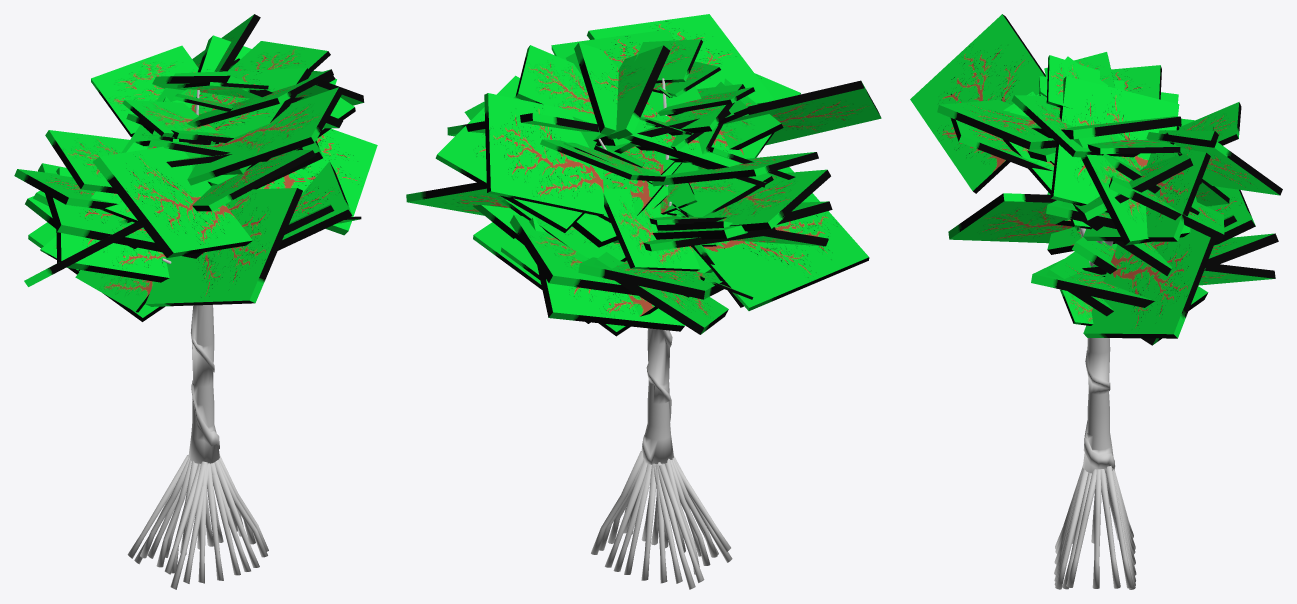
The model's file is MangalGrande.dae.
3 renders of one model, left to right at view 1: azimuth 30°, elevation 25°; view 2: azimuth 150°, elevation 25°; view 3: azimuth 270°, elevation 25°, orthographic.
Visible parts, largest first — view 1: Cilindro.010; view 2: Cilindro.010; view 3: Cilindro.010.
Part boxes in pixels (x1=…): Cilindro.010: x1=14, y1=14, x2=377, y2=589; Cilindro.010: x1=406, y1=14, x2=881, y2=589; Cilindro.010: x1=910, y1=14, x2=1282, y2=589.
Size of the model in its own units: 9.3 by 7.32 by 11.11.
